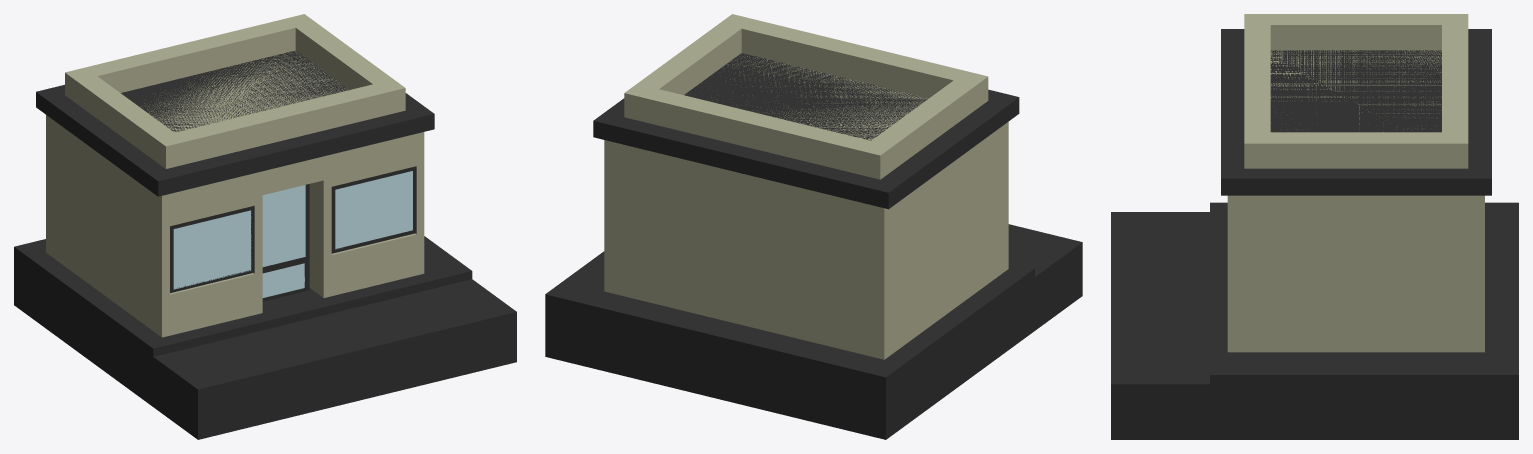
The picture shows the model from 3 angles, left to right: view 1: azimuth 30°, elevation 25°; view 2: azimuth 150°, elevation 25°; view 3: azimuth 270°, elevation 25°; orthographic projection. The views are drawn at different scales.
Parts seen in each view (by area): view 1: Plane.011; view 2: Plane.011; view 3: Plane.011.
Boxes of the visible parts, x1,y1,x2,y2 form: Plane.011: (14,14,516,439); Plane.011: (545,14,1082,439); Plane.011: (1111,14,1518,439).
Size of the model in its own units: 7.2 by 5.23 by 7.2.
